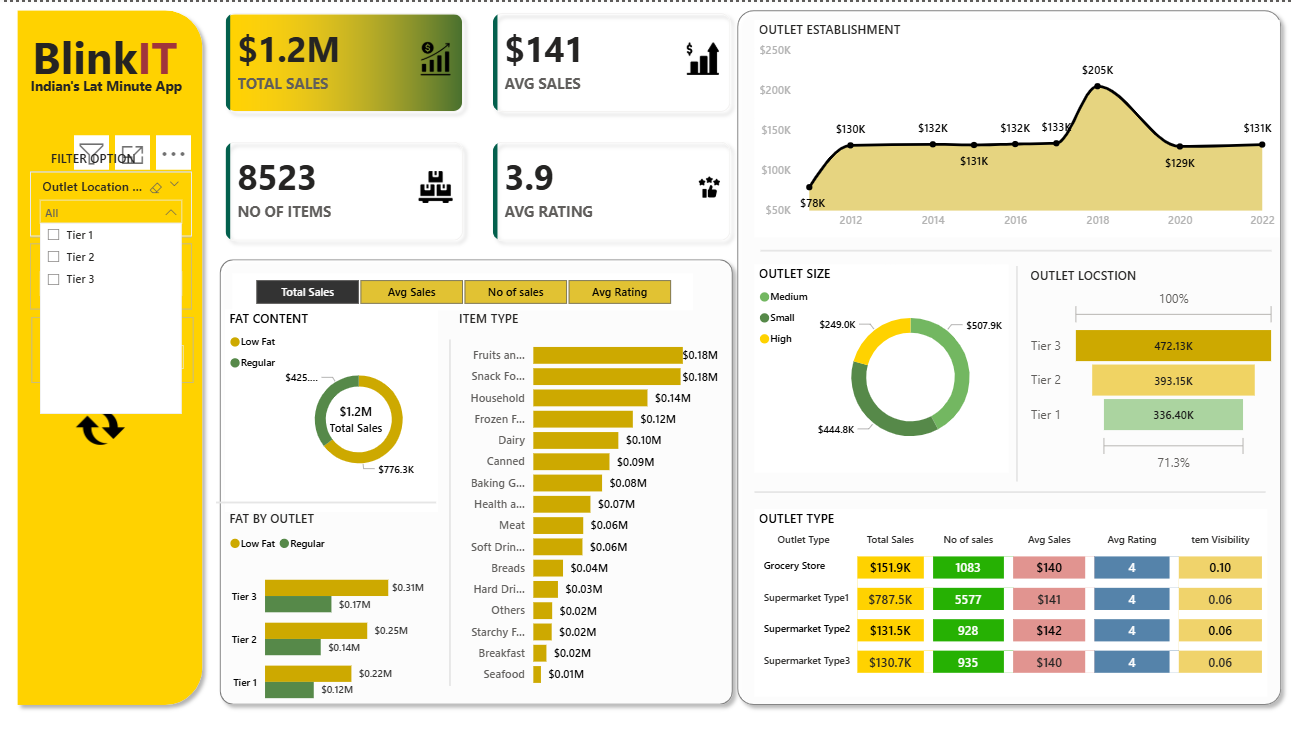

The dashboard page shown, as its layout file describes it:
{"tool":"powerbi","page":{"name":"Page 1","canvas":[1400,800],"ordinal":0},"visuals":[{"type":"shape","box":[10,0,218.3,770],"z":0},{"type":"textbox","box":[25.5,20.4,175.1,108.8],"z":1000},{"type":"textbox","box":[25,75,181.2,108.3],"z":2000},{"type":"textbox","box":[261.7,374.3,203.7,375.9],"z":3000},{"type":"cardVisual","fields":{"Data":["BlinkIT Grocery Data.Total Sales","BlinkIT Grocery Data.Avg Sales","BlinkIT Grocery Data.No of sales","BlinkIT Grocery Data.Avg Rating"]},"box":[231.9,0,570,270],"z":4000},{"type":"shape","box":[228.3,270,573.3,500],"z":5000},{"type":"donutChart","title":"FAT CONTENT","fields":{"Y":["BlinkIT Grocery Data.Total Sales"],"Category":["BlinkIT Grocery Data.Item Fat Content"]},"box":[243.6,332.9,230.6,219.2],"z":6000},{"type":"slicer","fields":{"Values":["matrics.matrics"]},"box":[251.7,293.1,498.5,39.7],"z":7000},{"type":"clusteredBarChart","title":"FAT BY OUTLET","fields":{"Y":["BlinkIT Grocery Data.Total Sales"],"Category":["BlinkIT Grocery Data.Outlet Location Type"],"Series":["BlinkIT Grocery Data.Item Fat Content"]},"box":[243.3,548.3,220,230],"z":8000},{"type":"shape","box":[233.3,531.7,238.3,21.7],"z":9000},{"type":"shape","box":[458.3,365,58.3,375],"z":10000},{"type":"barChart","title":"ITEM TYPE","fields":{"Y":["BlinkIT Grocery Data.Total Sales"],"Category":["BlinkIT Grocery Data.Item Type"]},"box":[491.7,333.3,290,418.3],"z":11000},{"type":"shape","box":[790,0,606.7,770],"z":12000},{"type":"lineChart","title":"OUTLET ESTABLISHMENT","fields":{"Y":["BlinkIT Grocery Data.Total Sales"],"Category":["BlinkIT Grocery Data.Outlet Establishment Year"]},"box":[816.7,20,568.3,235],"z":13000},{"type":"donutChart","title":"OUTLET SIZE","fields":{"Y":["BlinkIT Grocery Data.Total Sales"],"Category":["BlinkIT Grocery Data.Outlet Size"]},"box":[817.3,284.6,275,225],"z":14000},{"type":"shape","box":[823.3,250,553.3,38.3],"z":15000},{"type":"funnel","title":"OUTLET LOCSTION","fields":{"Y":["Sum(BlinkIT Grocery Data.Sales)"],"Category":["BlinkIT Grocery Data.Outlet Location Type"]},"box":[1110,285,275,228.3],"z":16000},{"type":"shape","box":[1071.7,285,58.3,233.3],"z":17000},{"type":"shape","box":[816.7,516.7,553.3,28.3],"z":18000},{"type":"pivotTable","title":"OUTLET TYPE","fields":{"Rows":["BlinkIT Grocery Data.Outlet Type"],"Values":["BlinkIT Grocery Data.Total Sales","BlinkIT Grocery Data.No of sales","BlinkIT Grocery Data.Avg Sales","BlinkIT Grocery Data.Avg Rating","Avg(BlinkIT Grocery Data.Item Visibility)"]},"box":[816.7,548.3,555,203.3],"z":19000},{"type":"slicer","fields":{"Values":["BlinkIT Grocery Data.Outlet Location Type"]},"box":[32.7,182.7,175,71.2],"z":20000},{"type":"cardVisual","fields":{"Data":["BlinkIT Grocery Data.Total Sales"]},"box":[326.7,415,118.3,71.7],"z":21000},{"type":"slicer","fields":{"Values":["BlinkIT Grocery Data.Outlet Size"]},"box":[32.7,261.5,175,71.2],"z":22000},{"type":"slicer","fields":{"Values":["BlinkIT Grocery Data.Item Type"]},"box":[34.6,340.4,175,71.2],"z":23000},{"type":"shape","title":"FILTER OPTION","box":[55.8,159.6,173.1,23.1],"z":24000},{"type":"image","box":[74.7,433.6,68.2,53.6],"z":25000}]}

Visuals, with their boxes in screenshot pixels (x1, y1, x2, y2), scaled from the page's 1400x800 canvas onto the 1291x733 screenshot:
shape: 9, 0, 211, 706
textbox: 24, 19, 185, 118
textbox: 23, 69, 190, 168
textbox: 241, 343, 429, 687
cardVisual - BlinkIT Grocery Data.Total Sales x BlinkIT Grocery Data.Avg Sales: 214, 0, 739, 247
shape: 211, 247, 739, 706
"FAT CONTENT" donutChart: 225, 305, 437, 506
slicer - matrics.matrics: 232, 269, 692, 305
"FAT BY OUTLET" clusteredBarChart: 224, 502, 427, 713
shape: 215, 487, 435, 507
shape: 423, 334, 476, 678
"ITEM TYPE" barChart: 453, 305, 721, 689
shape: 728, 0, 1288, 706
"OUTLET ESTABLISHMENT" lineChart: 753, 18, 1277, 234
"OUTLET SIZE" donutChart: 754, 261, 1007, 467
shape: 759, 229, 1269, 264
"OUTLET LOCSTION" funnel: 1024, 261, 1277, 470
shape: 988, 261, 1042, 475
shape: 753, 473, 1263, 499
"OUTLET TYPE" pivotTable: 753, 502, 1265, 689
slicer - BlinkIT Grocery Data.Outlet Location Type: 30, 167, 192, 233
cardVisual - BlinkIT Grocery Data.Total Sales: 301, 380, 410, 446
slicer - BlinkIT Grocery Data.Outlet Size: 30, 240, 192, 305
slicer - BlinkIT Grocery Data.Item Type: 32, 312, 193, 377
"FILTER OPTION" shape: 51, 146, 211, 167
image: 69, 397, 132, 446
